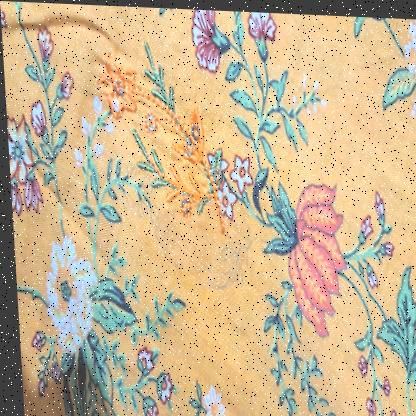spot: (133, 189, 244, 305)
